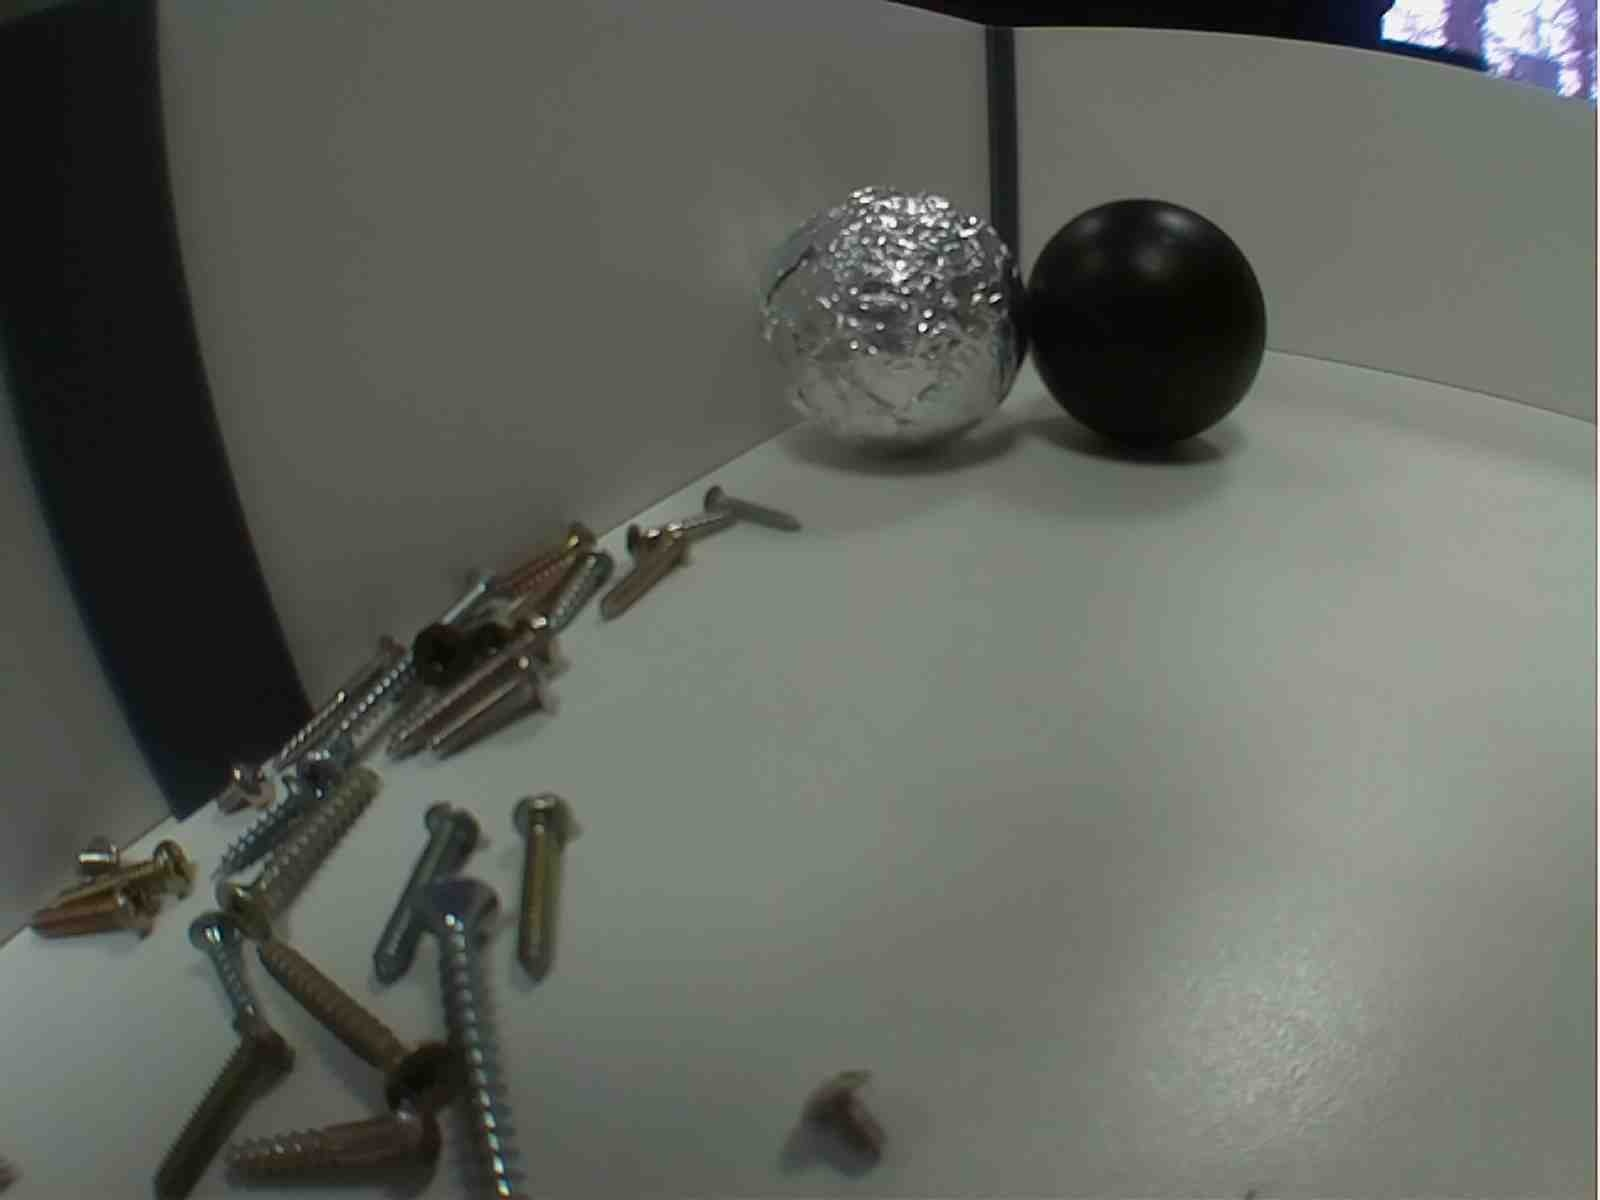bianca: (743, 182, 1032, 464)
nera: (1017, 189, 1271, 455)
